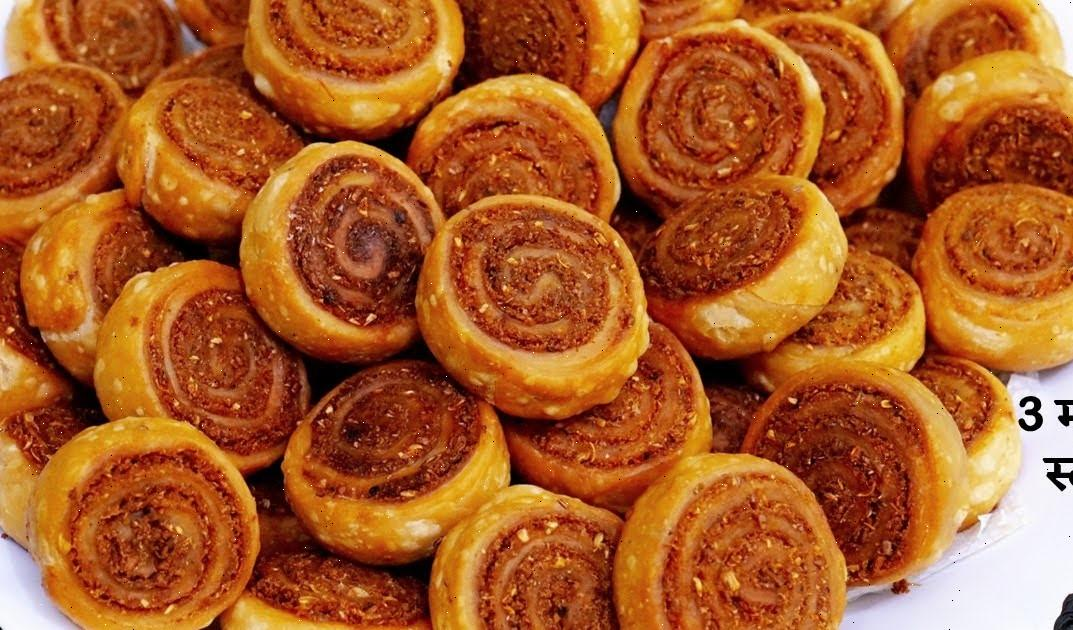bhakarwadi: (1, 2, 1010, 630)
